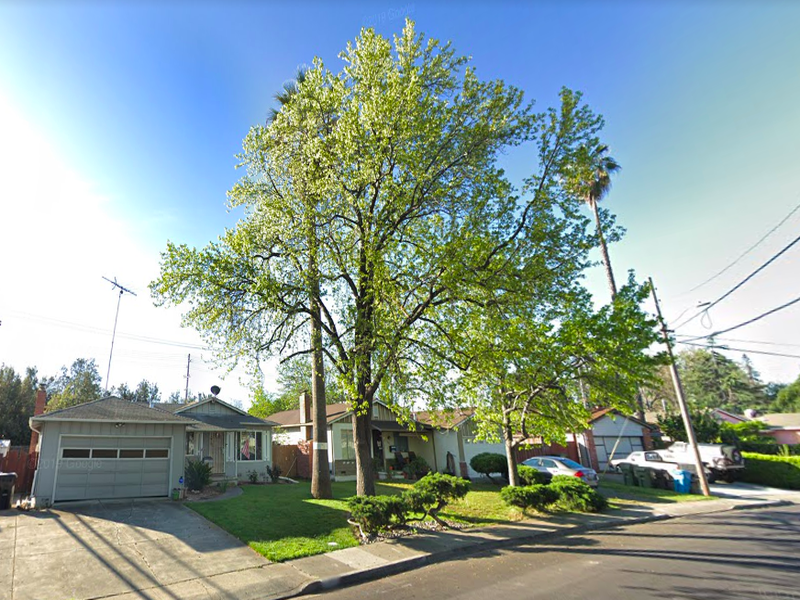tree: (148, 14, 606, 524), (440, 263, 675, 491)
